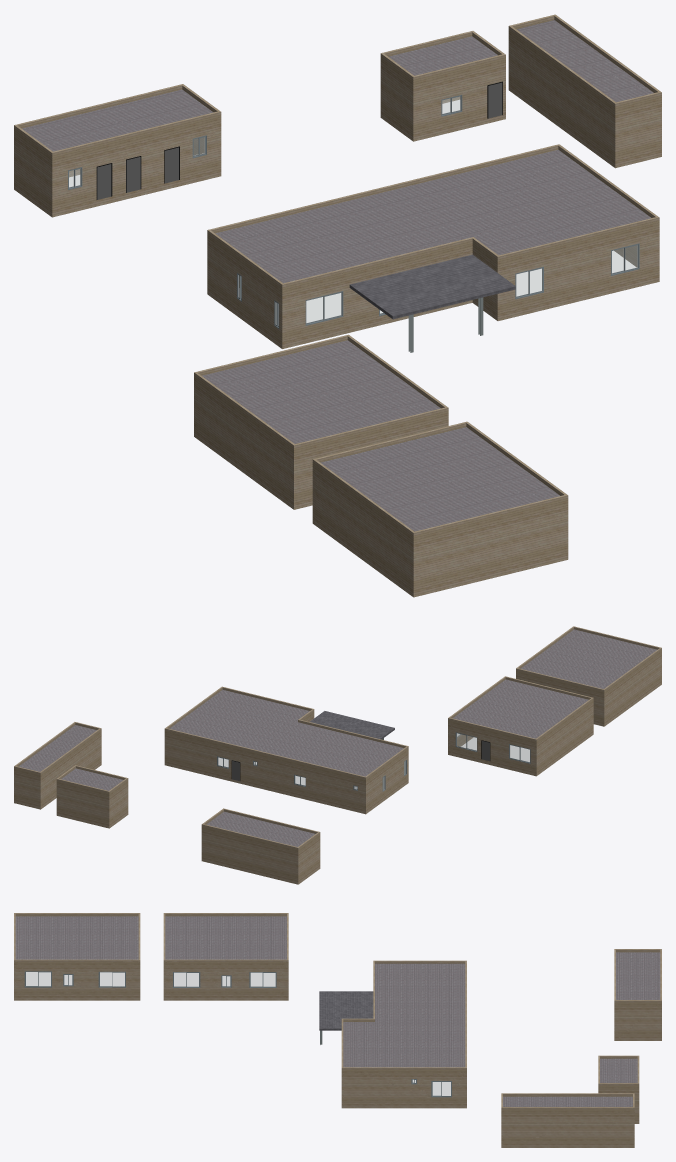
Rendered from Plan(REF)_levels(1)_window(REF)_wall(Wood - Flooring)_quoin(N)_cornice(N).fbx.
3 views of the same model, one above another, from view 1: azimuth 30°, elevation 25°; view 2: azimuth 150°, elevation 25°; view 3: azimuth 270°, elevation 25° (orthographic). The views are drawn at different scales.
Parts seen in each view (by area): view 1: Wood - Flooring, Shingle - Roofing - Designer Grade, Composite Roof, Glass - Clear, Color - Medium Gray, Metal - Finish - Aluminum; view 2: Wood - Flooring, Shingle - Roofing - Designer Grade, Composite Roof, Glass - Clear, Metal - Finish - Aluminum; view 3: Shingle - Roofing - Designer Grade, Wood - Flooring, Composite Roof, Glass - Clear, Metal - Finish - Aluminum.
Part boxes in pixels (x1=…): Wood - Flooring: x1=14, y1=14, x2=661, y2=597; Shingle - Roofing - Designer Grade: x1=22, y1=20, x2=653, y2=531; Composite Roof: x1=349, y1=254, x2=515, y2=319; Glass - Clear: x1=69, y1=97, x2=637, y2=324; Color - Medium Gray: x1=97, y1=82, x2=502, y2=199; Metal - Finish - Aluminum: x1=68, y1=94, x2=639, y2=328; Wood - Flooring: x1=14, y1=626, x2=661, y2=884; Shingle - Roofing - Designer Grade: x1=19, y1=629, x2=656, y2=846; Composite Roof: x1=310, y1=711, x2=394, y2=739; Glass - Clear: x1=218, y1=733, x2=529, y2=789; Metal - Finish - Aluminum: x1=217, y1=732, x2=530, y2=791; Shingle - Roofing - Designer Grade: x1=15, y1=916, x2=660, y2=1106; Wood - Flooring: x1=14, y1=913, x2=661, y2=1147; Composite Roof: x1=319, y1=991, x2=373, y2=1030; Glass - Clear: x1=26, y1=972, x2=450, y2=1095; Metal - Finish - Aluminum: x1=24, y1=971, x2=451, y2=1097.
Size of the model in its own units: 4148 by 5833 by 400.
Materials: 11 (3 with a texture image).
